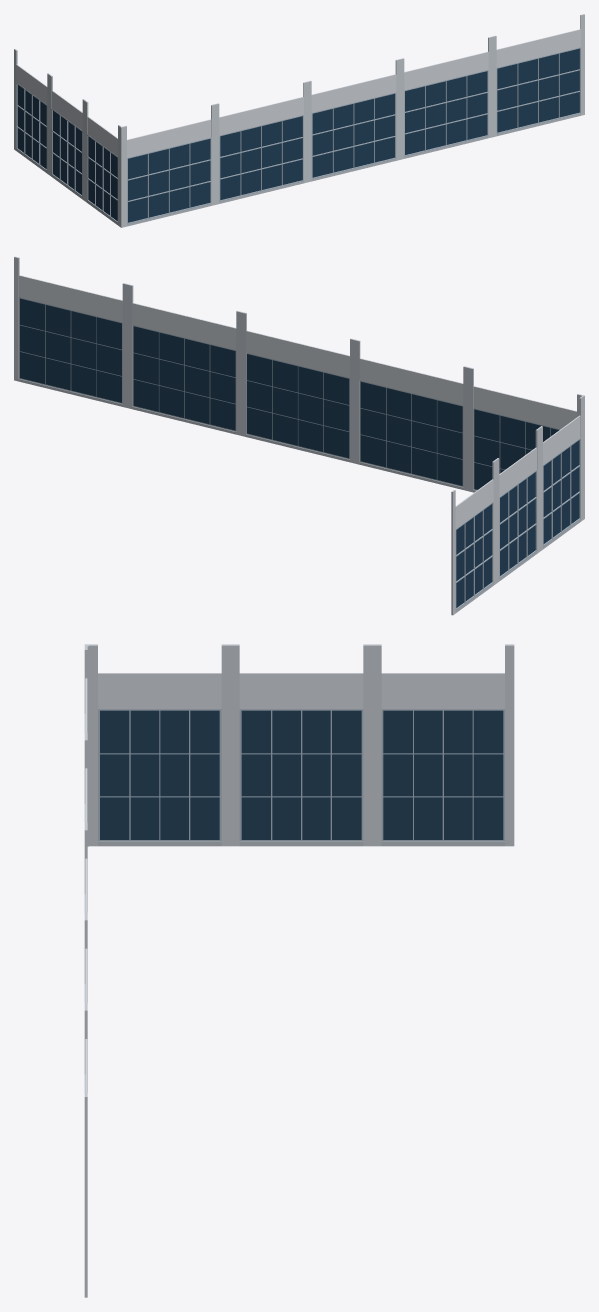
File: SM_GHS_OfficeGlassFacade.fbx
The picture shows the model from 3 angles, top to bottom: view 1: azimuth 30°, elevation 25°; view 2: azimuth 150°, elevation 25°; view 3: azimuth 270°, elevation 25°; orthographic projection. The views are drawn at different scales.
Visible parts, largest first — view 1: SM_GHS_OfficeGlassFacade; view 2: SM_GHS_OfficeGlassFacade; view 3: SM_GHS_OfficeGlassFacade.
Boxes of the visible parts, bbox=[...] form: SM_GHS_OfficeGlassFacade: bbox=[14, 14, 584, 227]; SM_GHS_OfficeGlassFacade: bbox=[14, 256, 584, 615]; SM_GHS_OfficeGlassFacade: bbox=[84, 644, 514, 1297].
Size of the model in its own units: 4605 by 1847 by 952.
